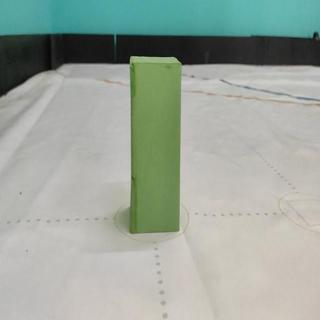greenbox: (128, 53, 184, 234)
